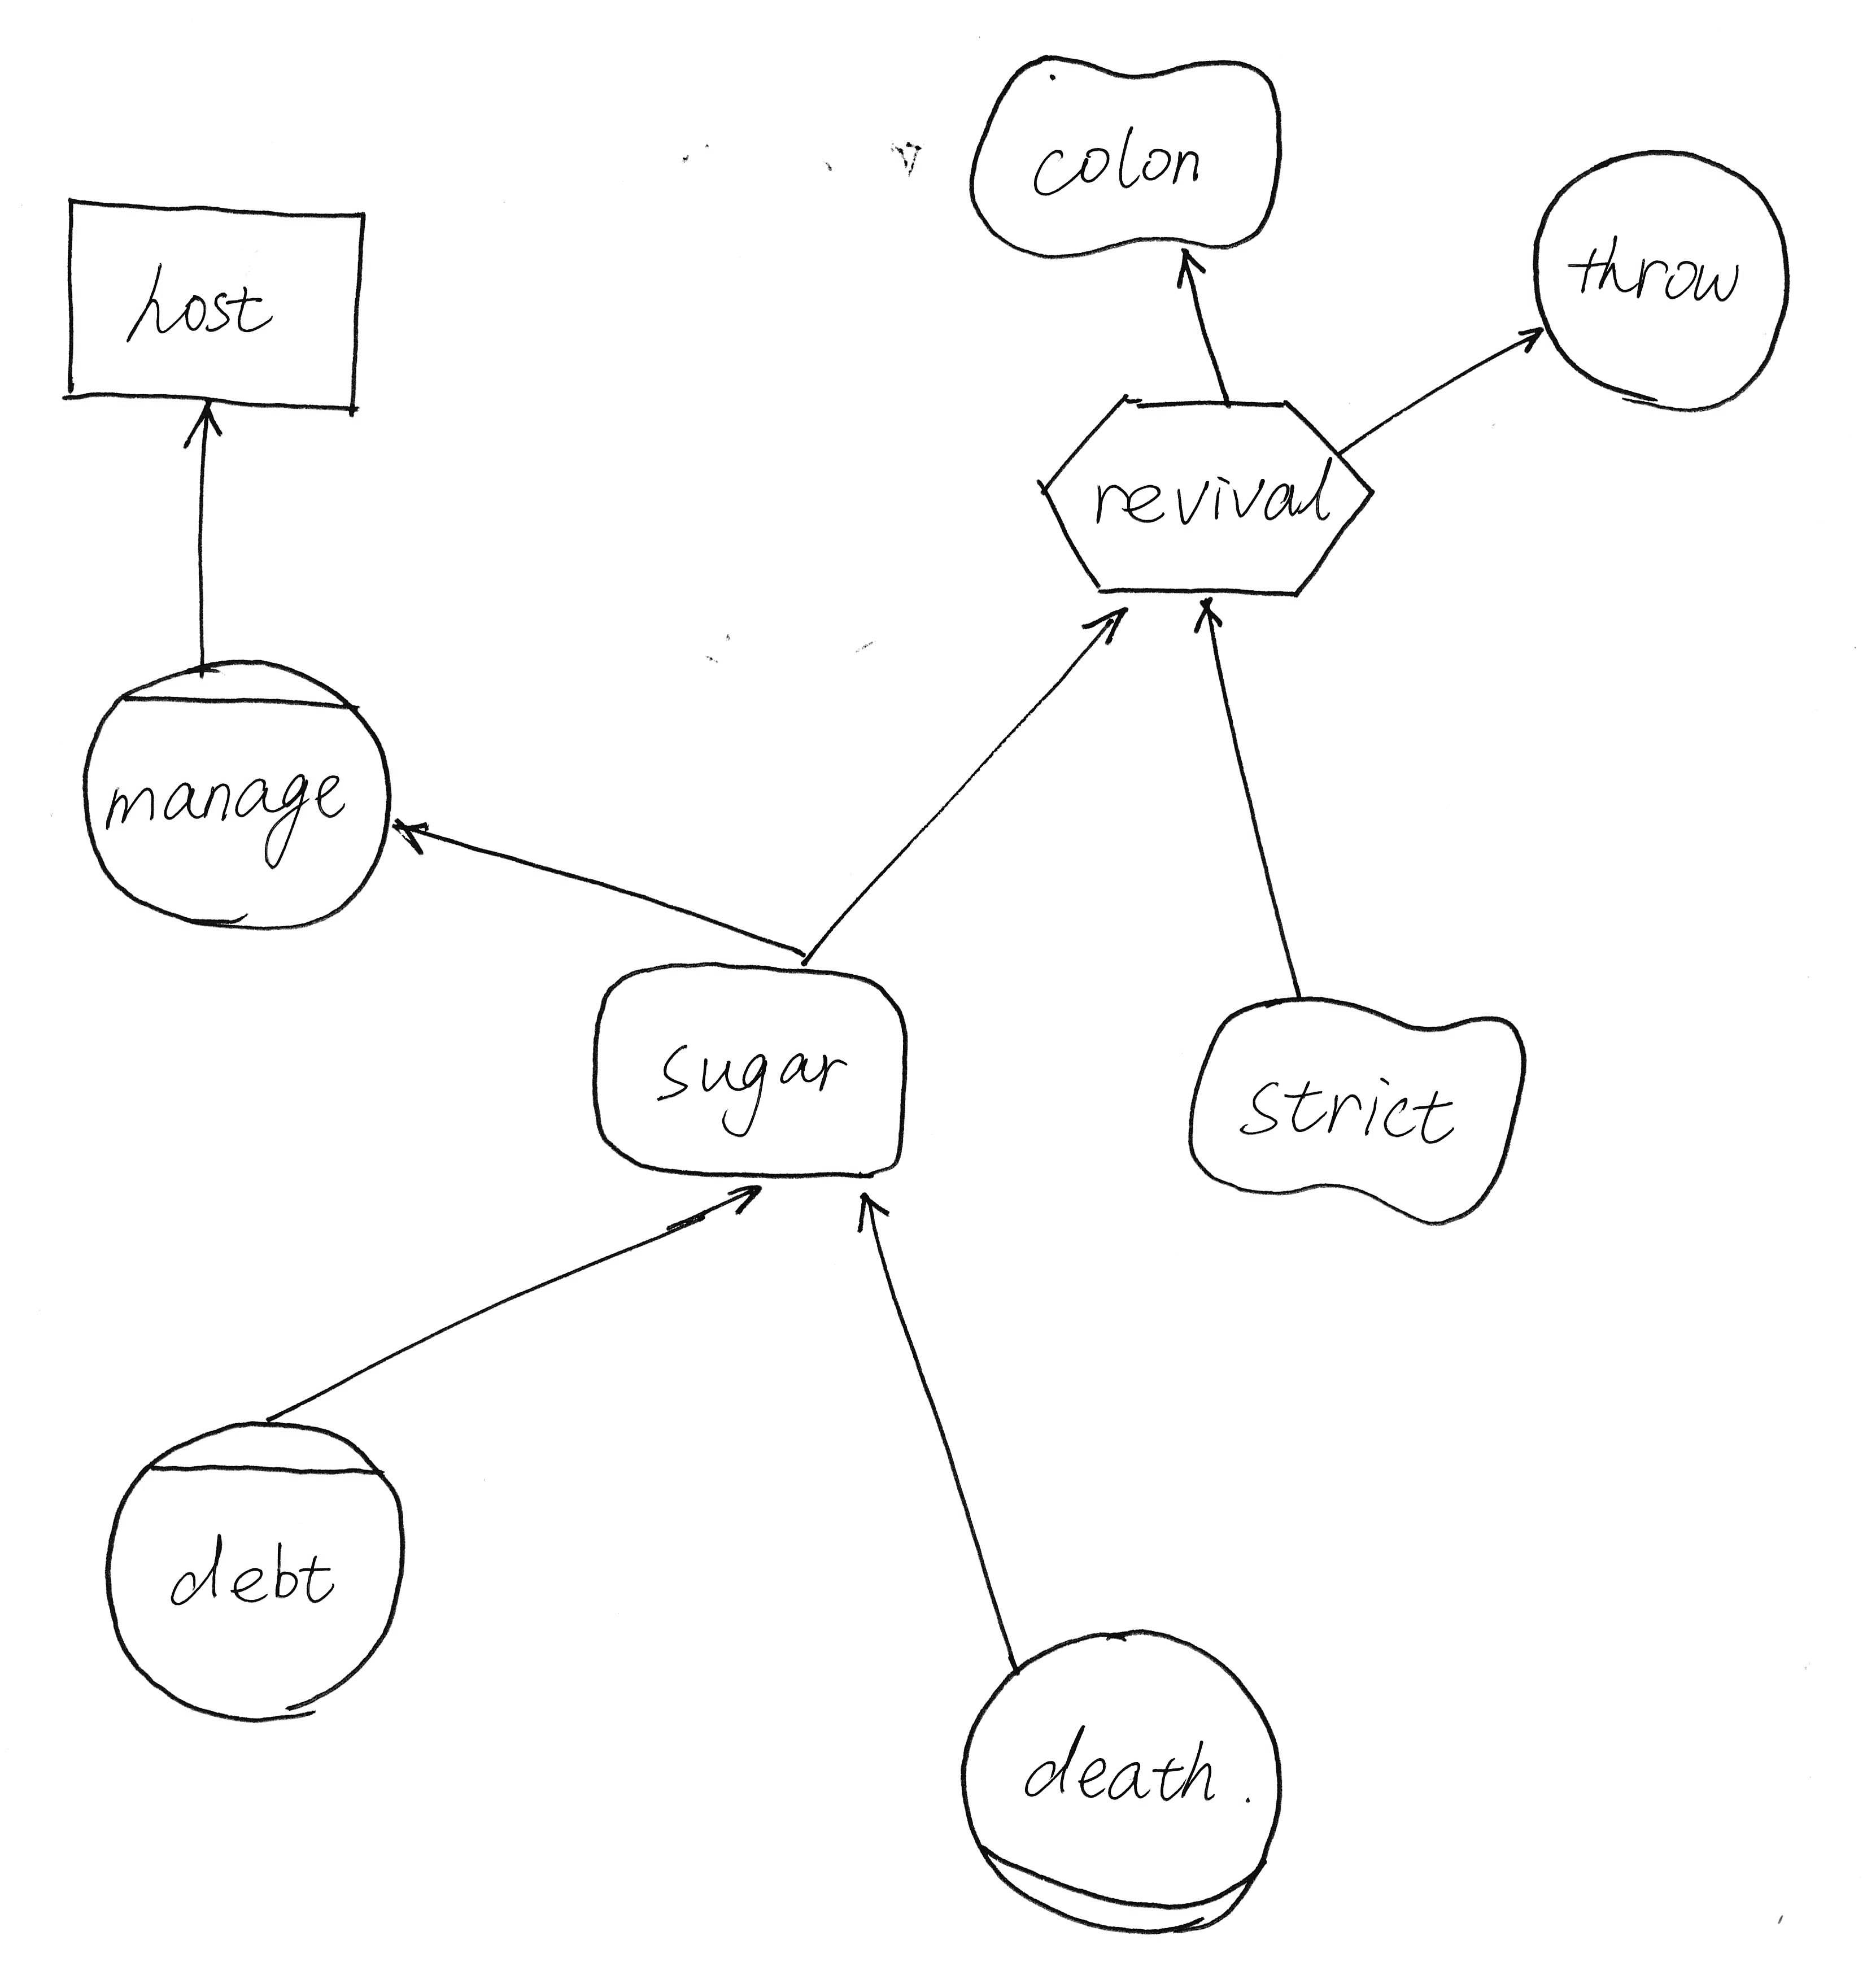actor: (1514, 126, 1807, 430)
agent: (82, 1391, 421, 1741), (63, 644, 414, 963)
arrow: (154, 388, 247, 472), (835, 1176, 912, 1248), (704, 1170, 793, 1228), (1062, 598, 1146, 658), (1499, 305, 1570, 372), (383, 795, 447, 869), (1181, 583, 1244, 654), (1163, 240, 1220, 302)
goal: (569, 942, 925, 1191)
quality: (1172, 974, 1546, 1244), (953, 32, 1298, 279)
resource: (39, 170, 393, 432)
role: (946, 1604, 1291, 1949)
task: (1023, 372, 1388, 632)
